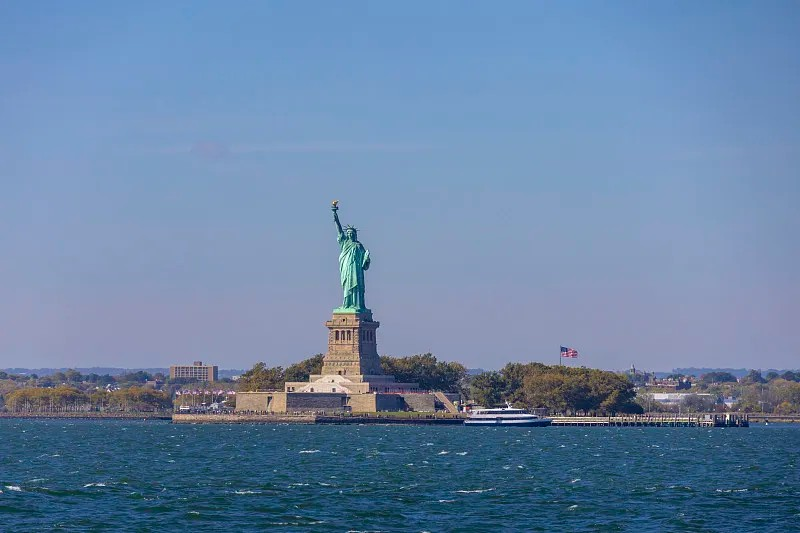SL: (320, 201, 383, 376)
